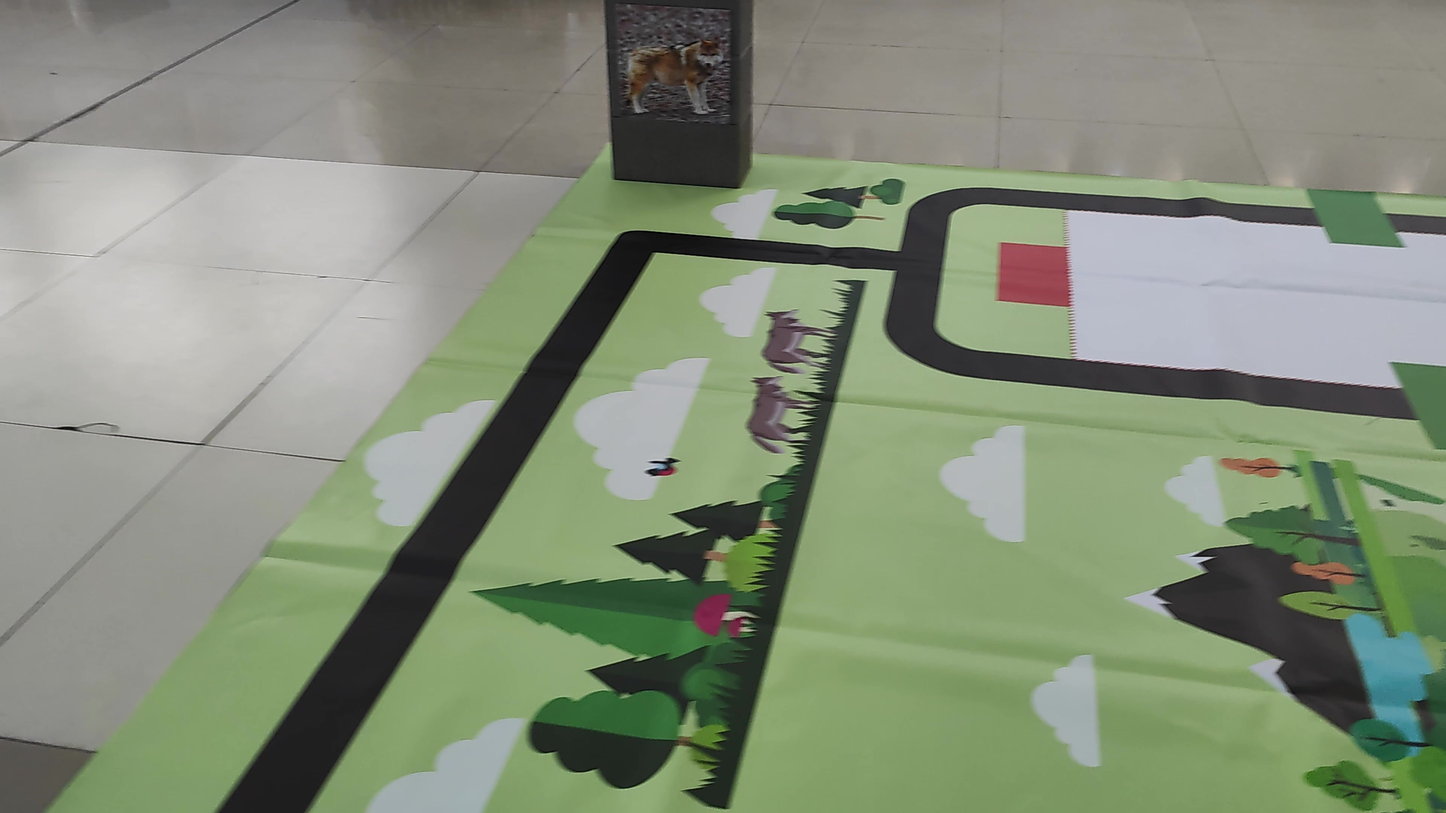wolf: (613, 12, 744, 122)
